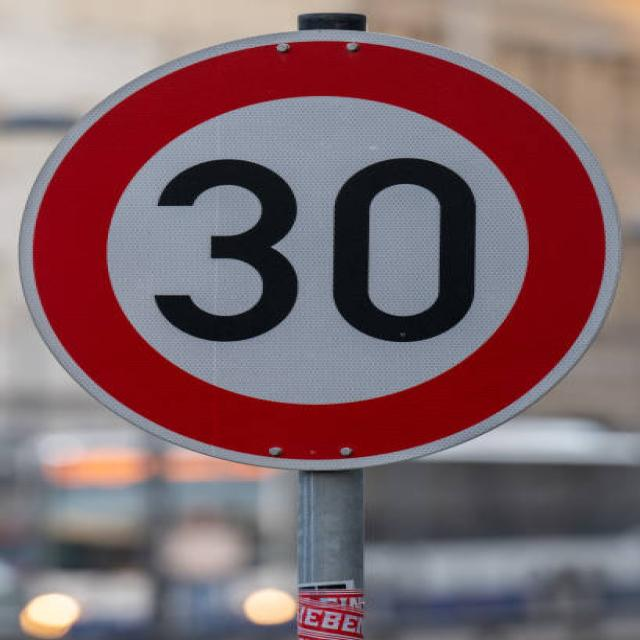Speed limit 30: (17, 26, 624, 473)
